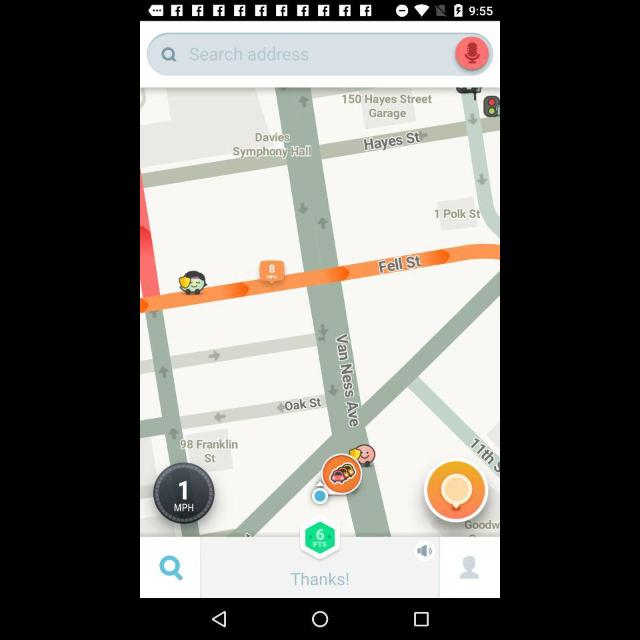icon: (302, 520, 338, 556), (456, 34, 490, 72), (456, 552, 482, 582), (159, 556, 185, 582), (414, 540, 436, 560), (311, 609, 329, 629), (161, 46, 179, 64), (209, 611, 229, 627), (412, 612, 430, 628)
input: (148, 34, 492, 76)
map: (141, 88, 499, 536)
panel: (141, 539, 499, 597), (140, 598, 500, 640)
text: (190, 44, 312, 64), (290, 570, 352, 588)
toolbar: (141, 23, 499, 87)
uppertaskbar: (141, 1, 499, 21)
